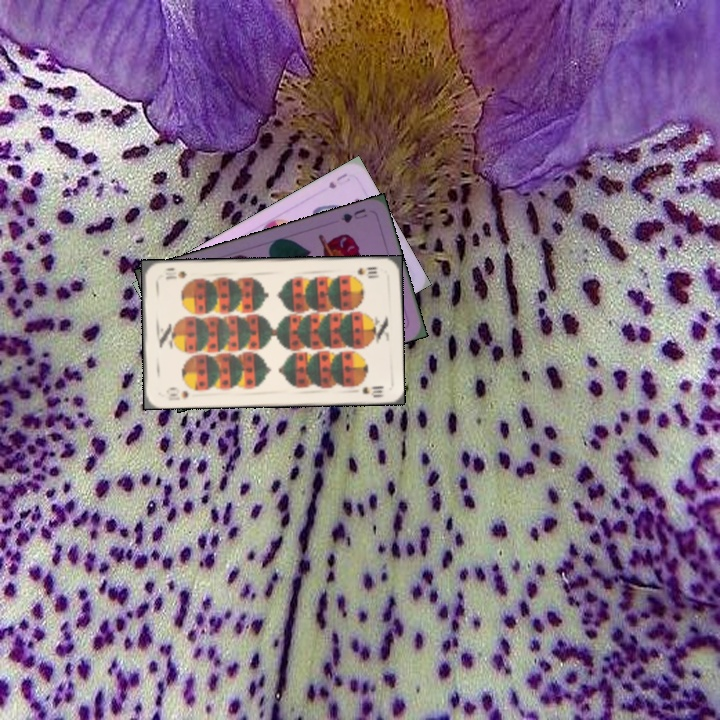GU: (337, 205, 370, 225)
S10: (162, 384, 191, 403), (353, 263, 382, 279)
SU: (324, 169, 350, 191)
